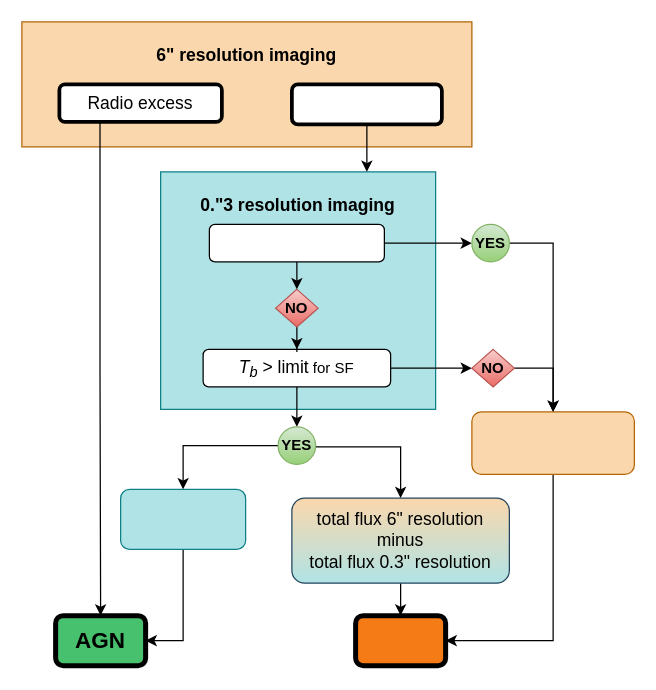
The diagram is 656 pixels wide and 690 high, and some of its shapes have lost their labels. Each missing label, with the centre of its shape:
No radio excess: [366,104]
Resolved: [296,242]
SF: [400,640]
total flux 0.3" resolution: [182,518]
total flux 6" resolution: [552,442]
